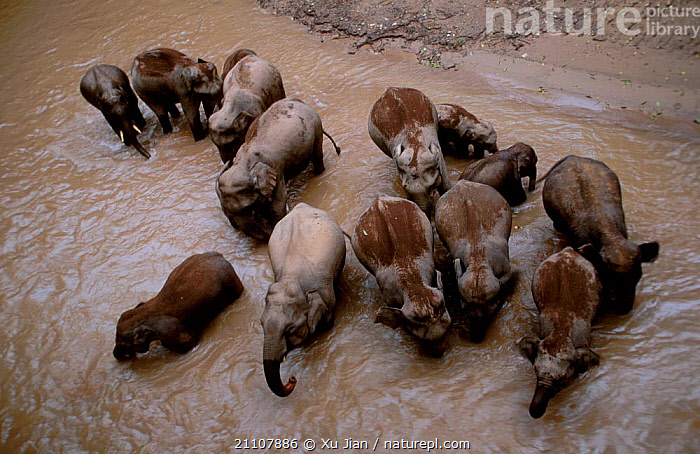Adult Elephant: (534, 150, 678, 314), (513, 242, 630, 423), (255, 187, 347, 413), (216, 98, 344, 245), (100, 243, 228, 381), (347, 200, 458, 346), (436, 180, 508, 340), (364, 84, 449, 201), (213, 41, 287, 171), (128, 41, 220, 133), (71, 69, 152, 161), (213, 88, 217, 92)
Baby Elephant: (454, 140, 536, 207), (434, 101, 506, 156)
